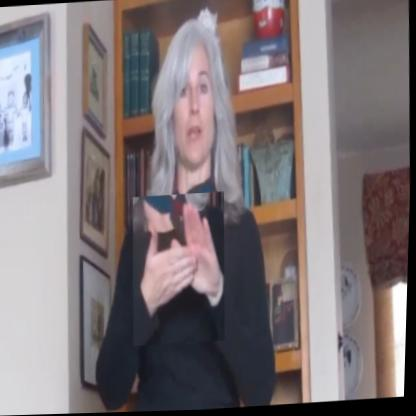NiceToMeetYou: (131, 193, 230, 347)
